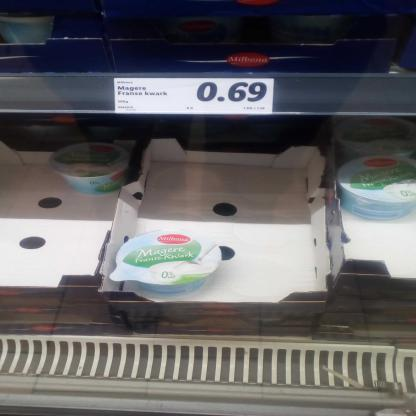prtg: (115, 79, 276, 115)
